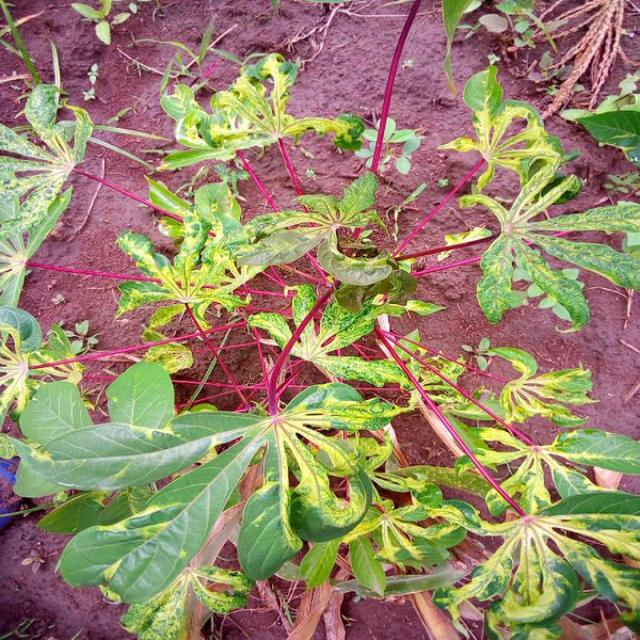Mosaico: (53, 401, 382, 581), (446, 486, 610, 621), (477, 203, 640, 337), (271, 273, 431, 409), (103, 221, 255, 311), (491, 422, 618, 515), (187, 72, 323, 158), (444, 82, 533, 190)
